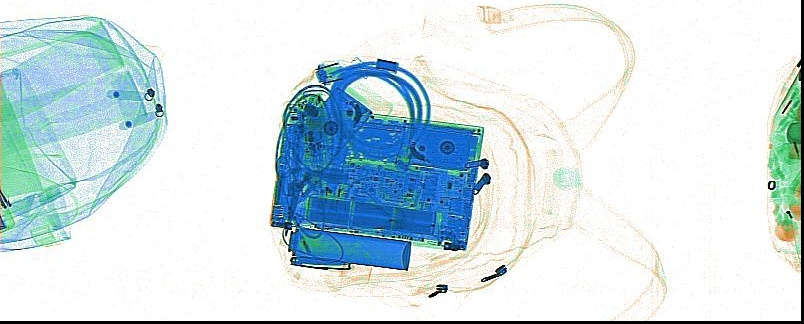knife: (288, 252, 352, 270)
pressure: (285, 226, 411, 272)
